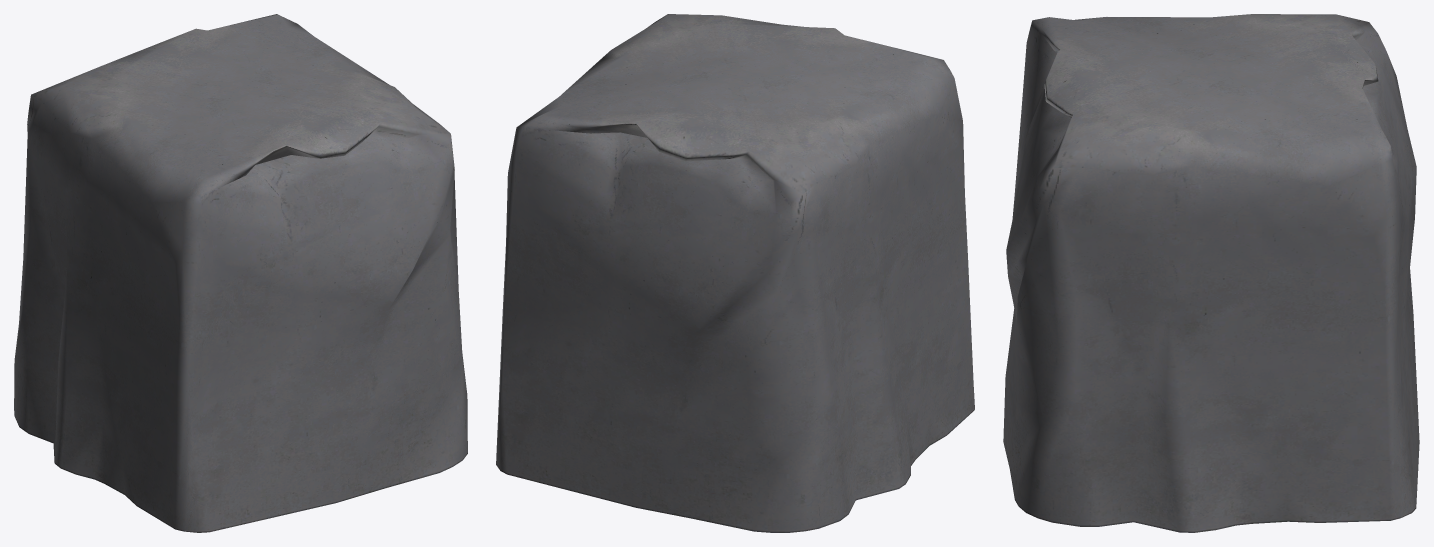
Rendered from sm26_008_packmaterial01a.fbx.
The picture shows the model from 3 angles, left to right: view 1: azimuth 30°, elevation 25°; view 2: azimuth 150°, elevation 25°; view 3: azimuth 270°, elevation 25°; orthographic projection. The views are drawn at different scales.
Visible parts, largest first — view 1: LOD_1_Group_0_Sub_1__sm26_008_PackMaterial01A_A_Mat; view 2: LOD_1_Group_0_Sub_1__sm26_008_PackMaterial01A_A_Mat; view 3: LOD_1_Group_0_Sub_1__sm26_008_PackMaterial01A_A_Mat.
Boxes of the visible parts, <box> form: LOD_1_Group_0_Sub_1__sm26_008_PackMaterial01A_A_Mat: <box>14,14,467,532</box>; LOD_1_Group_0_Sub_1__sm26_008_PackMaterial01A_A_Mat: <box>496,14,974,532</box>; LOD_1_Group_0_Sub_1__sm26_008_PackMaterial01A_A_Mat: <box>1003,14,1419,532</box>.
Size of the model in its own units: 1.92 by 1.85 by 1.85.
